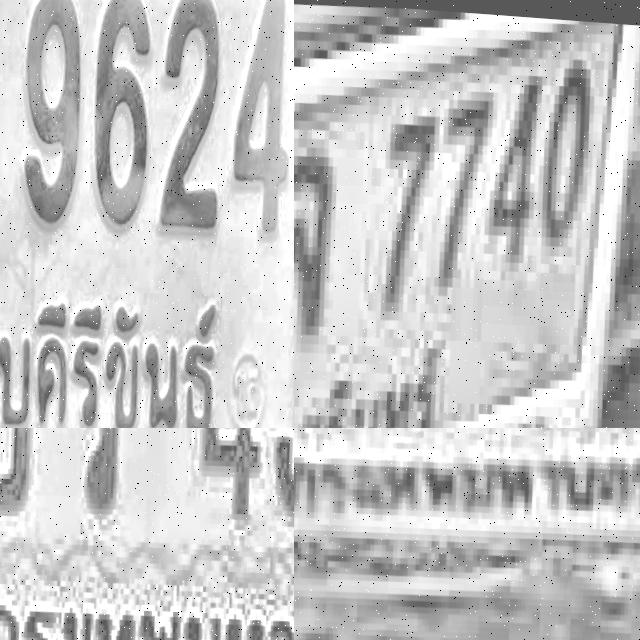license-plate: (294, 0, 640, 428), (0, 0, 294, 428), (294, 428, 640, 637), (0, 428, 294, 640)
